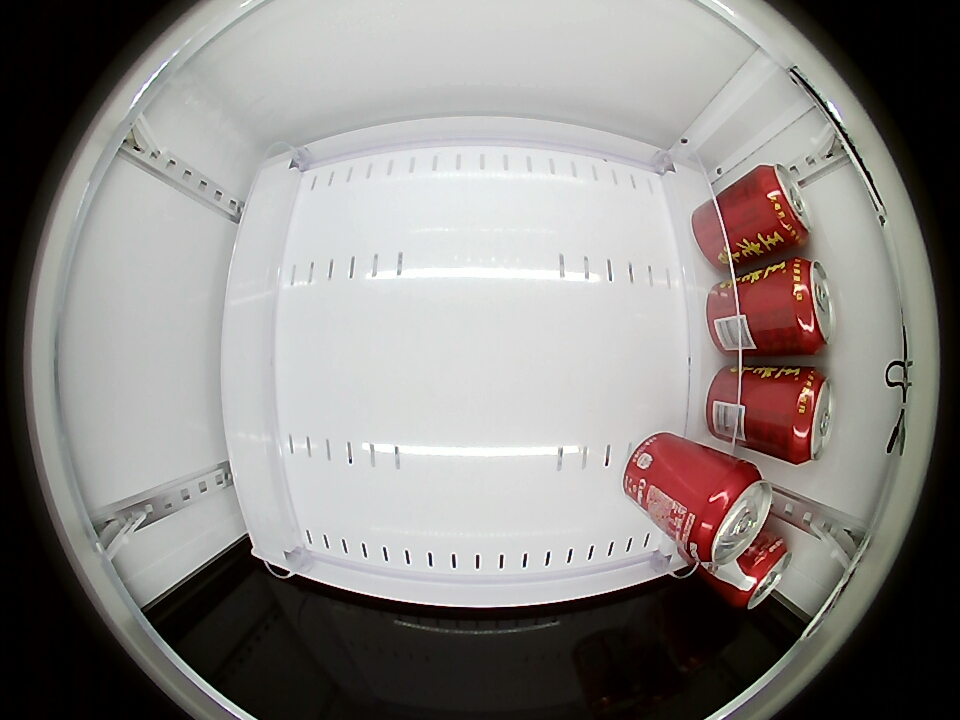kele: (686, 465, 773, 566), (730, 536, 792, 610)
wanglaoji-c: (779, 368, 835, 465), (780, 258, 835, 352), (754, 163, 813, 247)
